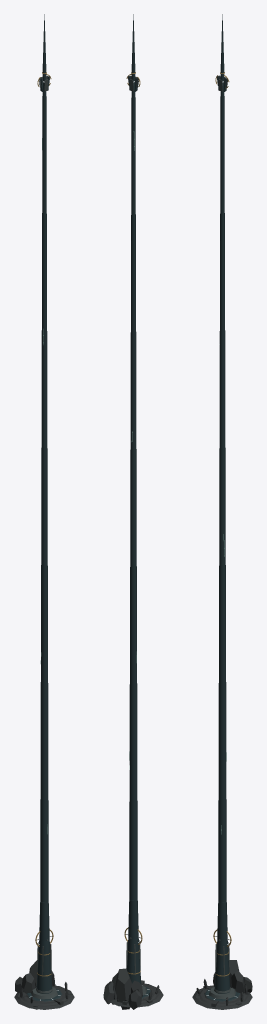
The model's file is ironwork-pillar.glb.
3 renders of one model, left to right at view 1: azimuth 30°, elevation 25°; view 2: azimuth 150°, elevation 25°; view 3: azimuth 330°, elevation 25°, orthographic.
Visible parts, largest first — view 1: Pillar_Distant_Monolith, Pillar_Lower_Monolith, Pillar_Upper_Monolith, Pillar_Summit_Apron, Pillar_Summit_Terrace, Pillar_Outcrop_1, Pillar_Foundation_Collar; view 2: Pillar_Distant_Monolith, Pillar_Lower_Monolith, Pillar_Outcrop_2, Pillar_Upper_Monolith, Pillar_Summit_Apron, Pillar_Outcrop_4, Pillar_Outcrop_5; view 3: Pillar_Distant_Monolith, Pillar_Lower_Monolith, Pillar_Upper_Monolith, Pillar_Summit_Apron, Pillar_Outcrop_3, Pillar_Summit_Terrace, Pillar_Foundation_Collar.
Part boxes in pixels (x1,y1,x2,y2): Pillar_Distant_Monolith: (40, 74, 48, 902); Pillar_Lower_Monolith: (36, 940, 52, 993); Pillar_Upper_Monolith: (39, 901, 49, 941); Pillar_Summit_Apron: (14, 985, 74, 1009); Pillar_Summit_Terrace: (22, 986, 68, 1005); Pillar_Outcrop_1: (21, 973, 35, 993); Pillar_Foundation_Collar: (31, 987, 57, 999); Pillar_Distant_Monolith: (129, 74, 137, 900); Pillar_Lower_Monolith: (127, 938, 141, 984); Pillar_Outcrop_2: (115, 968, 131, 1009); Pillar_Upper_Monolith: (128, 899, 138, 939); Pillar_Summit_Apron: (109, 983, 163, 1007); Pillar_Outcrop_4: (128, 990, 141, 1009); Pillar_Outcrop_5: (103, 981, 114, 1004); Pillar_Distant_Monolith: (218, 74, 226, 902); Pillar_Lower_Monolith: (214, 940, 230, 993); Pillar_Upper_Monolith: (217, 901, 227, 941); Pillar_Summit_Apron: (192, 985, 252, 1009); Pillar_Outcrop_3: (231, 971, 244, 993); Pillar_Summit_Terrace: (198, 986, 246, 1005); Pillar_Foundation_Collar: (209, 987, 235, 999).
Bounding box in the file's own units: 34.8 × 628 × 34.8.
